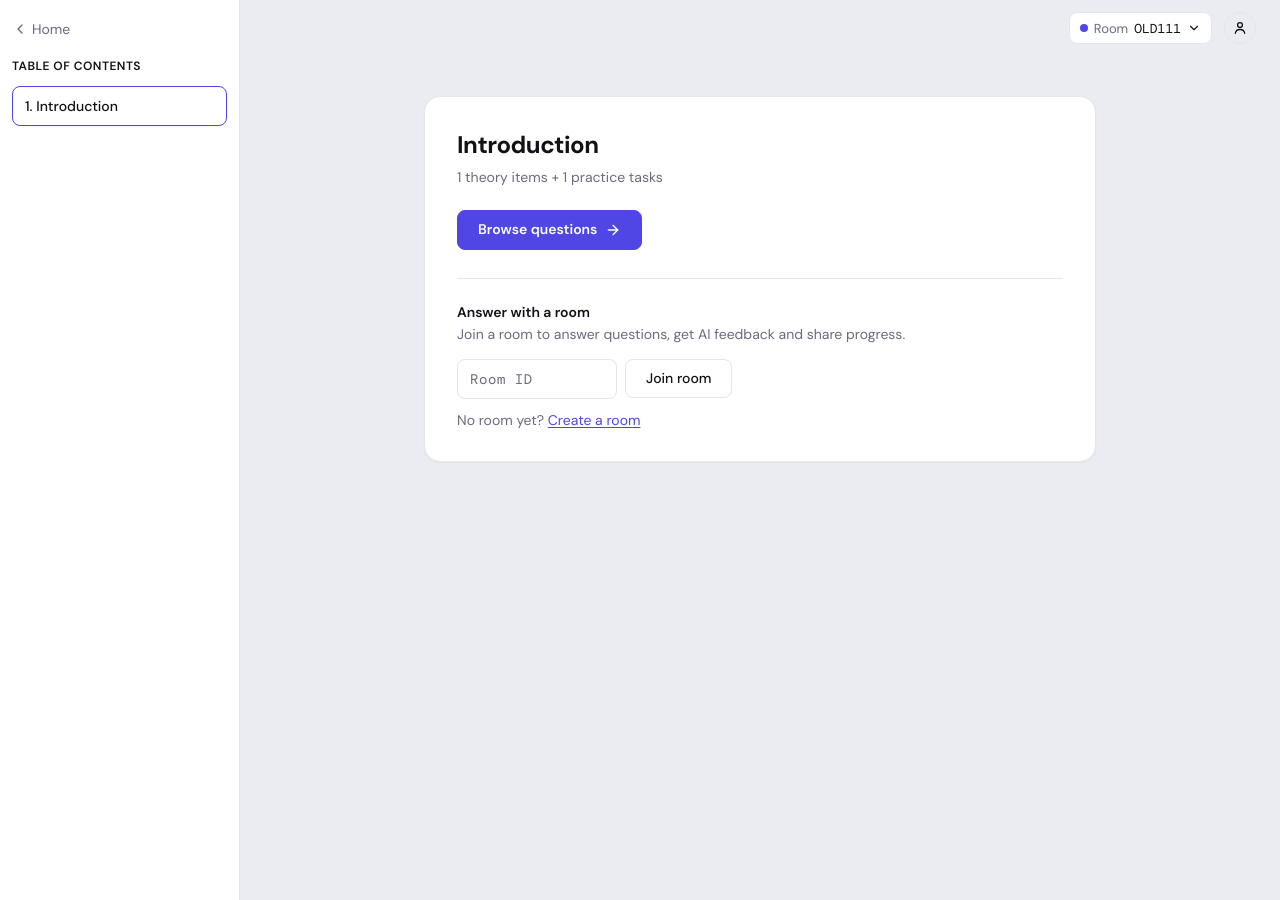
Test case: App routing › keeps the remembered room when browsing from a roomless overview
Click the button "Browse questions": (550, 230) [457, 210, 642, 250]
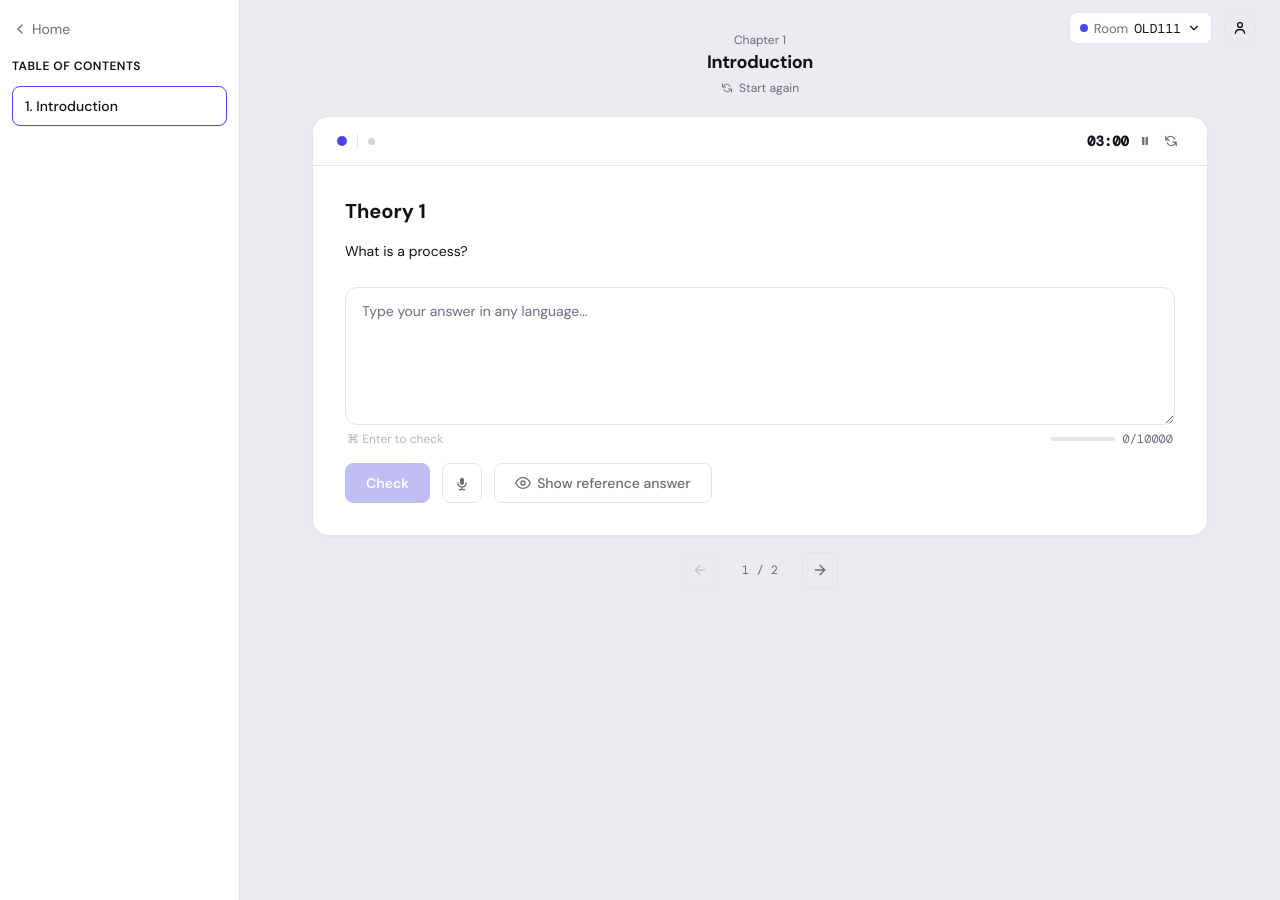
Expected: the text box with placeholder "Type your answer in any language..." is enabled, [345, 287, 1175, 425]
Expected: the button "Create a room" is gone
